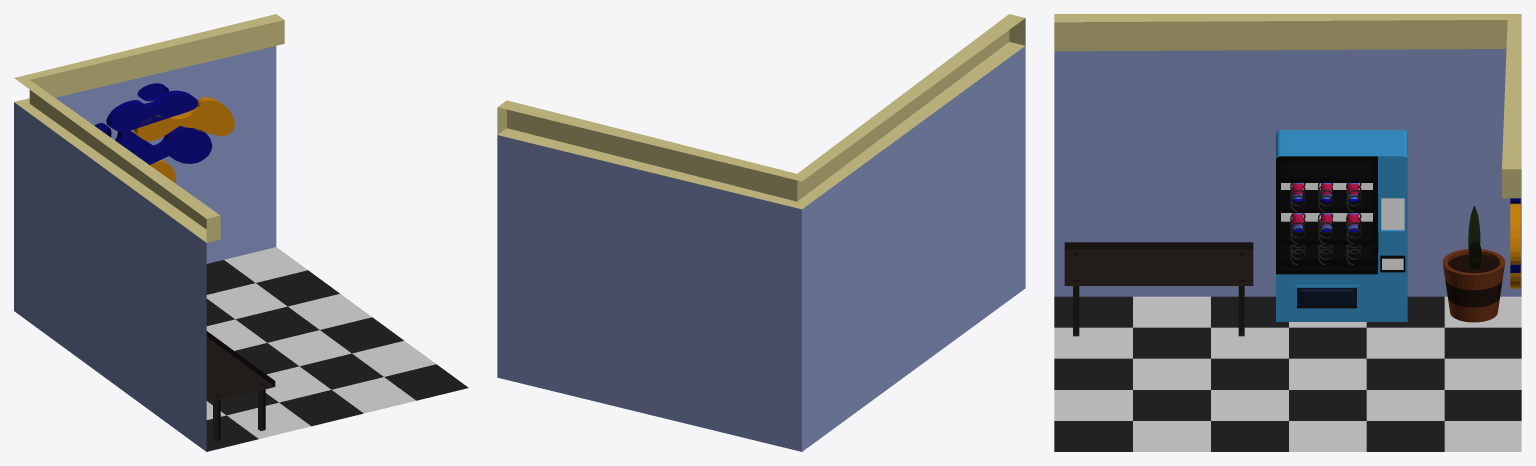
The model's file is Allanim0004.obj.
The picture shows the model from 3 angles, left to right: view 1: azimuth 30°, elevation 25°; view 2: azimuth 150°, elevation 25°; view 3: azimuth 270°, elevation 25°; orthographic projection. The views are drawn at different scales.
Parts seen in each view (by area): view 1: ruangan_Cube.003, meja_Cube.004, logo.001_Circle.019, logo_Circle.006, logo.005_Circle.023; view 2: ruangan_Cube.003; view 3: ruangan_Cube.003, vending_machine_Cube.001, meja_Cube.004, pot_bunga_Cylinder, per_second\_Spiral.010, Plane.007, logo_Circle.006.
Boxes of the visible parts, left/top/right/bottom form: ruangan_Cube.003: left=14, top=14, right=468, bottom=451; meja_Cube.004: left=206, top=331, right=275, bottom=441; logo.001_Circle.019: left=115, top=126, right=212, bottom=164; logo_Circle.006: left=133, top=97, right=234, bottom=141; logo.005_Circle.023: left=106, top=90, right=198, bottom=133; ruangan_Cube.003: left=497, top=14, right=1025, bottom=451; ruangan_Cube.003: left=1054, top=14, right=1521, bottom=451; vending_machine_Cube.001: left=1276, top=130, right=1407, bottom=321; meja_Cube.004: left=1064, top=242, right=1253, bottom=336; pot_bunga_Cylinder: left=1442, top=249, right=1505, bottom=322; per_second\_Spiral.010: left=1290, top=183, right=1361, bottom=265; Plane.007: left=1468, top=206, right=1481, bottom=268; logo_Circle.006: left=1510, top=203, right=1520, bottom=264.
Size of the model in its own units: 11.73 by 9.95 by 14.9.
